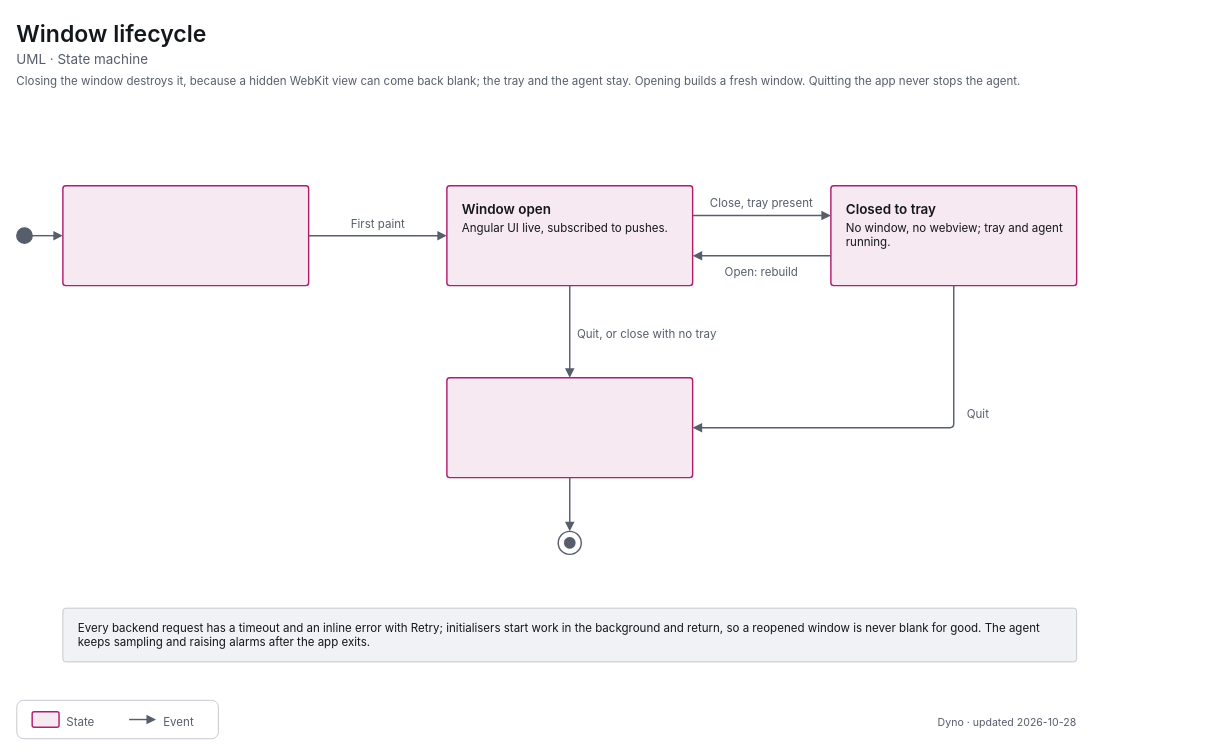
Image size: 1232x756. Some labels were removed from this diagram. The centre of each missing label's shape, as x and y in pixels:
"Quitting Unsubscribe, exit the app." goes at (x=569, y=427).
"Starting A splash in index.html; no IPC awaited before the first paint." goes at (x=185, y=235).
